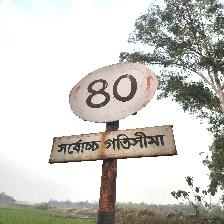Speed-limit: (50, 61, 172, 163)
